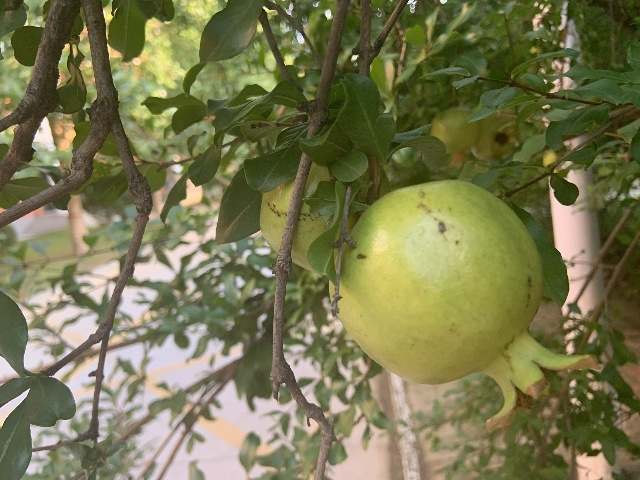mid-growth: (329, 179, 600, 433), (258, 161, 358, 273), (429, 106, 480, 170), (471, 116, 518, 160)
